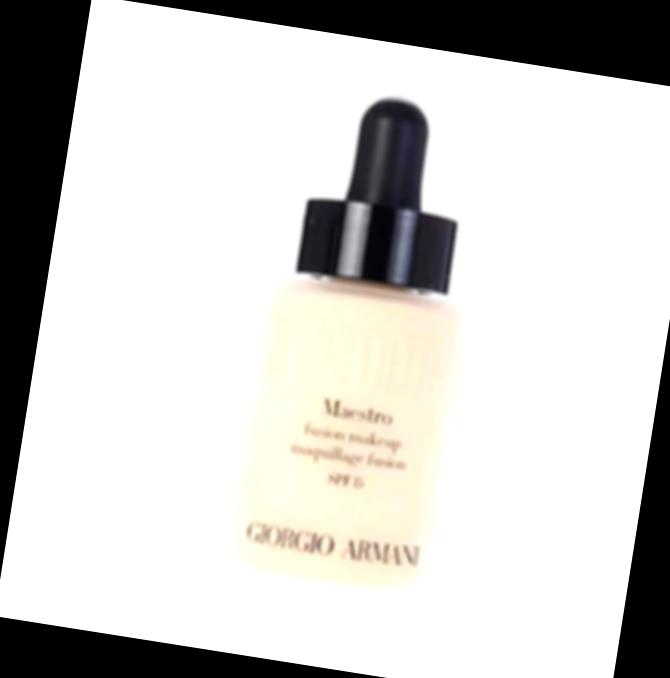cosmetic: (198, 77, 515, 630)
